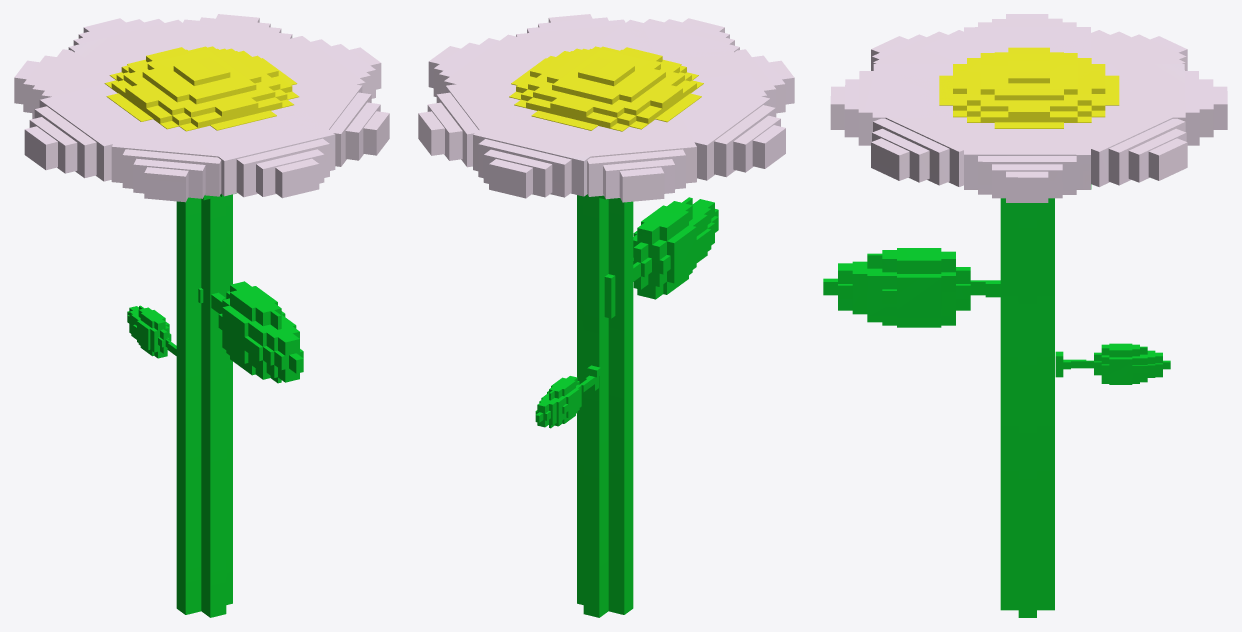
Rendered from flower0.glb.
3 renders of one model, left to right at view 1: azimuth 30°, elevation 25°; view 2: azimuth 150°, elevation 25°; view 3: azimuth 270°, elevation 25°, orthographic.
Visible parts, largest first — view 1: geometry_0; view 2: geometry_0; view 3: geometry_0.
Part boxes in pixels (<box>): geometry_0: <box>14,14,389,617</box>; geometry_0: <box>418,14,794,617</box>; geometry_0: <box>823,14,1227,617</box>.
Size of the model in its own units: 0.4558 by 0.6966 by 0.4765.
Materials: 1 (1 with a texture image).
